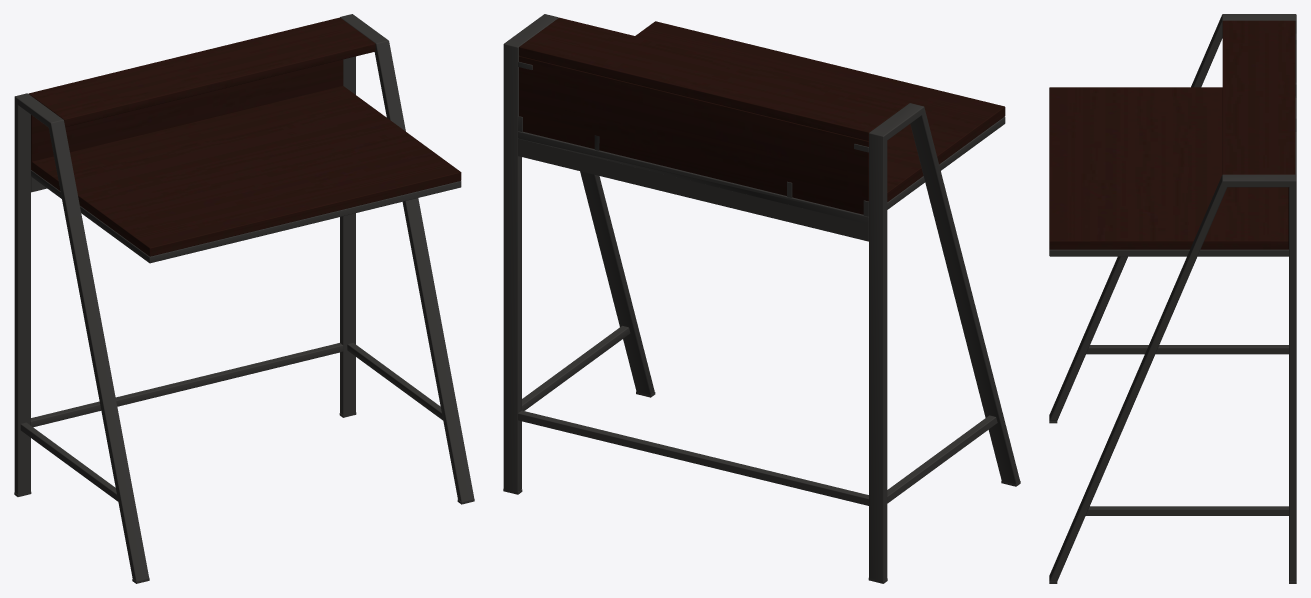
3 renders of one model, left to right at view 1: azimuth 30°, elevation 25°; view 2: azimuth 150°, elevation 25°; view 3: azimuth 270°, elevation 25°, orthographic. The views are drawn at different scales.
Visible parts, largest first — view 1: C-skpBF5; view 2: C-skpBF5; view 3: C-skpBF5.
Boxes of the visible parts, x1,y1,x2,y2 form: C-skpBF5: [14, 14, 474, 583]; C-skpBF5: [503, 14, 1020, 583]; C-skpBF5: [1049, 14, 1296, 583].
Size of the model in its own units: 0.8 by 0.9 by 0.5.
Materials: 2 (1 with a texture image).
